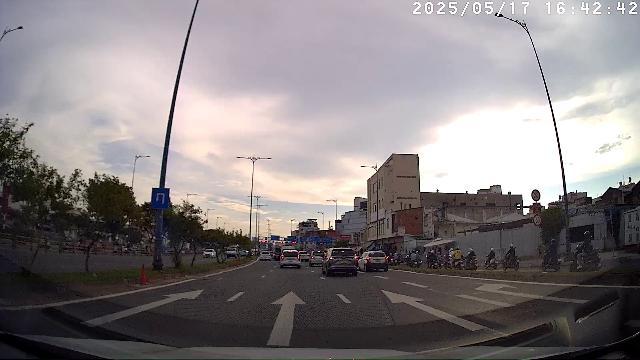127-toc-do-toi-da-50: (534, 214, 542, 226)
